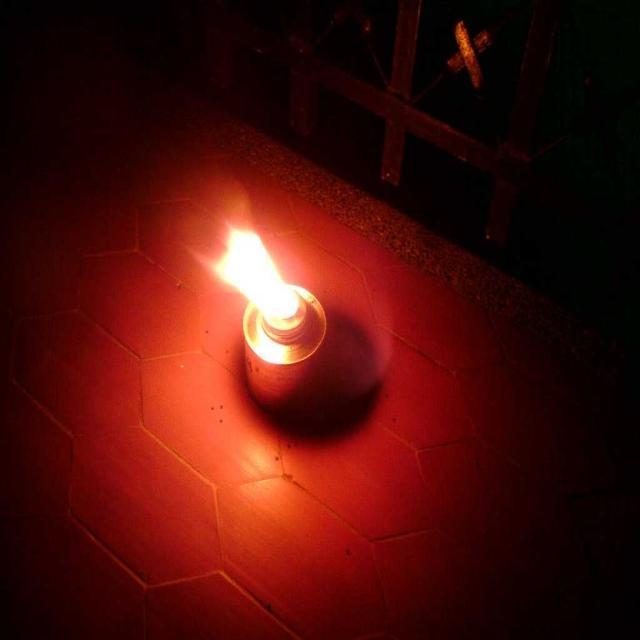Fire: (202, 215, 318, 323)
